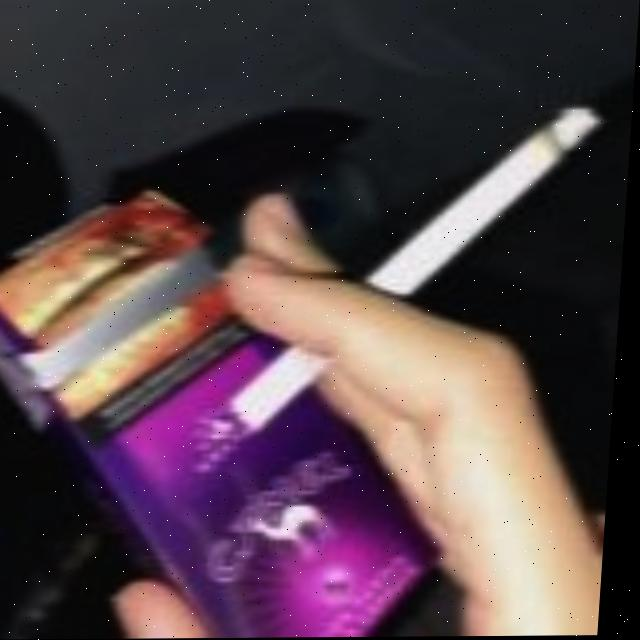cigarette: (233, 107, 606, 434)
